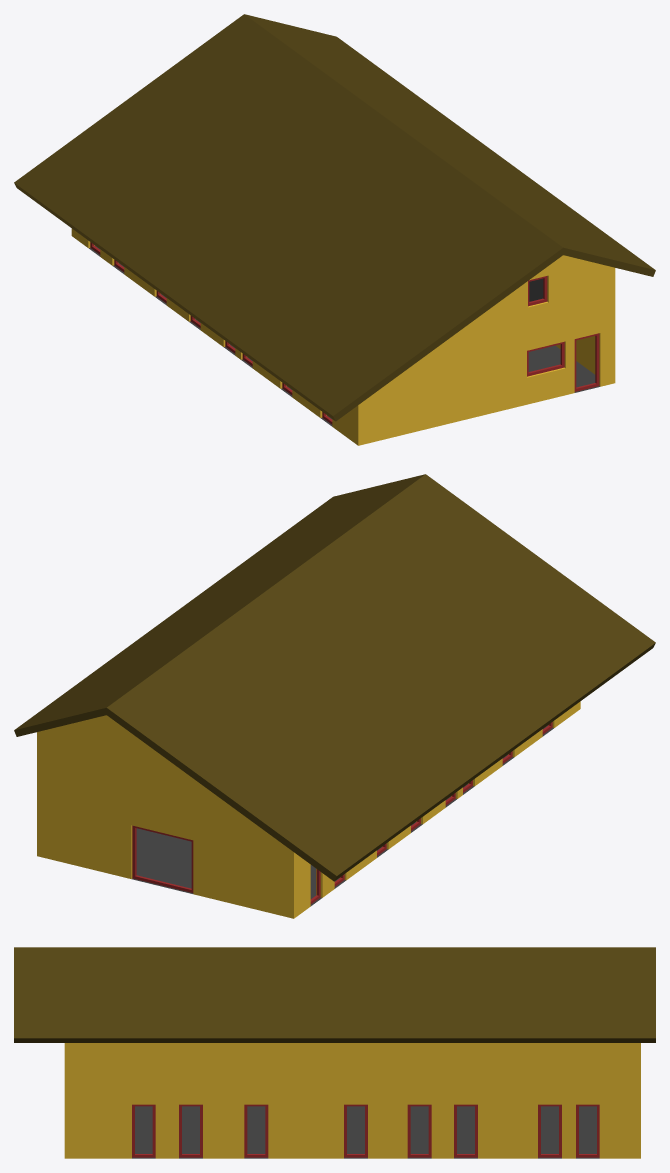
The model's file is result.dae.
The picture shows the model from 3 angles, top to bottom: view 1: azimuth 30°, elevation 25°; view 2: azimuth 150°, elevation 25°; view 3: azimuth 270°, elevation 25°; orthographic projection.
Parts seen in each view (by area): view 1: e2950b00-d8fb-4576-8b26-359338475346__undefined (×5), 85f63b74-df22-4f9d-a3fa-3bb4509ed298__undefined (×3), dea56efc-e4e9-47d4-80d5-14c267c64e98__Plane_36; view 2: e2950b00-d8fb-4576-8b26-359338475346__undefined (×5), 85f63b74-df22-4f9d-a3fa-3bb4509ed298__undefined (×2), dea56efc-e4e9-47d4-80d5-14c267c64e98__Plane_36, 57dc7bd5-2d85-44fa-8f04-803fea9c69a0__Box_9; view 3: e2950b00-d8fb-4576-8b26-359338475346__undefined (×2), 85f63b74-df22-4f9d-a3fa-3bb4509ed298__undefined, dea56efc-e4e9-47d4-80d5-14c267c64e98__Plane_36, f38afc24-5475-4650-a32d-416548f4deef__Box_66, e48c1542-fbaa-4bcb-af90-726866f41beb__Box_72, f82ef459-bef6-437d-9403-5ba1176f0b18__Box_60, fa1ec2a6-7fc3-4542-bb2e-b38d5bd0bcaf__Box_63, e3d6ba1c-e5d4-450d-8acb-fccd59eb92ae__Box_69, fdcd8105-6697-43c2-b7f5-4e38b827d8c7__Box_75, 8348d787-f2f4-4999-816c-1d2ba5c8b289__Box_78, ec84785c-494b-4f69-94dc-d70e77dc9ccd__Box_81.
Boxes of the visible parts, x1=… form: e2950b00-d8fb-4576-8b26-359338475346__undefined (×5): x1=14, y1=14, x2=655, y2=421; 85f63b74-df22-4f9d-a3fa-3bb4509ed298__undefined (×3): x1=71, y1=228, x2=615, y2=445; dea56efc-e4e9-47d4-80d5-14c267c64e98__Plane_36: x1=89, y1=245, x2=599, y2=426; e2950b00-d8fb-4576-8b26-359338475346__undefined (×5): x1=14, y1=474, x2=655, y2=881; 85f63b74-df22-4f9d-a3fa-3bb4509ed298__undefined (×2): x1=37, y1=701, x2=580, y2=918; dea56efc-e4e9-47d4-80d5-14c267c64e98__Plane_36: x1=131, y1=725, x2=553, y2=906; 57dc7bd5-2d85-44fa-8f04-803fea9c69a0__Box_9: x1=132, y1=825, x2=193, y2=892; e2950b00-d8fb-4576-8b26-359338475346__undefined (×2): x1=14, y1=947, x2=655, y2=1042; 85f63b74-df22-4f9d-a3fa-3bb4509ed298__undefined: x1=64, y1=1043, x2=640, y2=1158; dea56efc-e4e9-47d4-80d5-14c267c64e98__Plane_36: x1=132, y1=1106, x2=599, y2=1158; f38afc24-5475-4650-a32d-416548f4deef__Box_66: x1=244, y1=1104, x2=268, y2=1157; e48c1542-fbaa-4bcb-af90-726866f41beb__Box_72: x1=407, y1=1104, x2=431, y2=1157; f82ef459-bef6-437d-9403-5ba1176f0b18__Box_60: x1=132, y1=1104, x2=155, y2=1157; fa1ec2a6-7fc3-4542-bb2e-b38d5bd0bcaf__Box_63: x1=179, y1=1104, x2=202, y2=1157; e3d6ba1c-e5d4-450d-8acb-fccd59eb92ae__Box_69: x1=344, y1=1104, x2=367, y2=1157; fdcd8105-6697-43c2-b7f5-4e38b827d8c7__Box_75: x1=454, y1=1104, x2=477, y2=1157; 8348d787-f2f4-4999-816c-1d2ba5c8b289__Box_78: x1=538, y1=1104, x2=561, y2=1157; ec84785c-494b-4f69-94dc-d70e77dc9ccd__Box_81: x1=576, y1=1104, x2=599, y2=1157.
Size of the model in its own units: 1254 by 641 by 2147.
